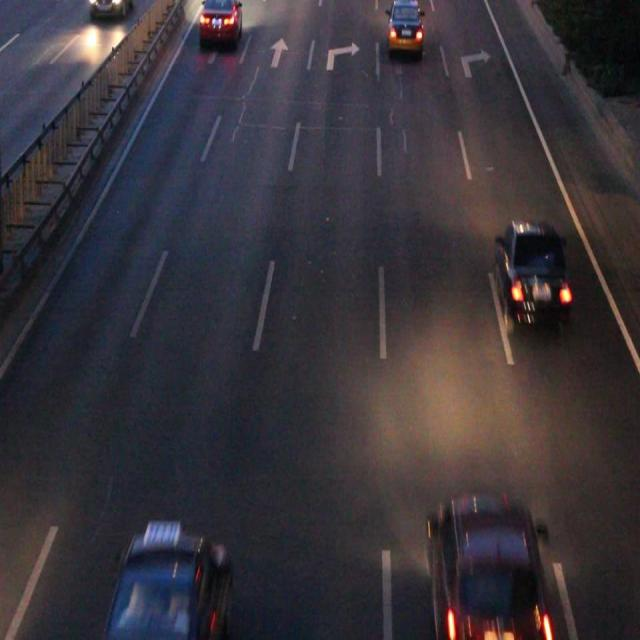car: (429, 502, 545, 633), (105, 534, 229, 640), (495, 222, 566, 324), (200, 1, 241, 45), (387, 1, 421, 51)
